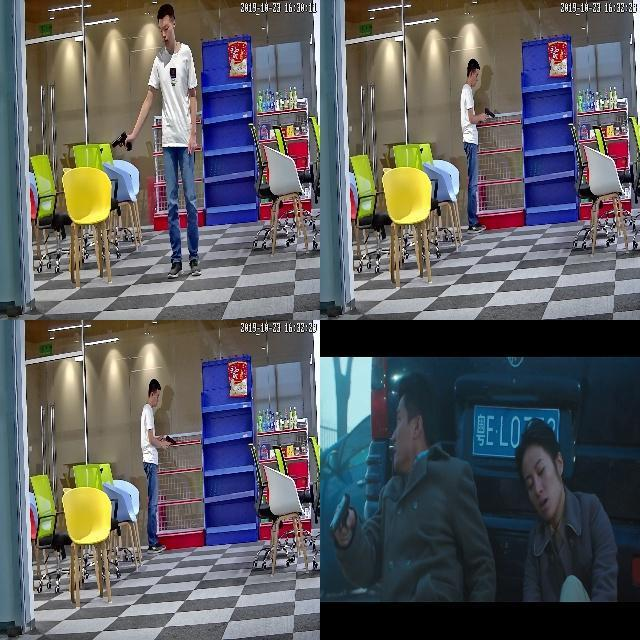gun-knife-thesis - v11 Yolov5 augmented: (326, 488, 352, 546), (107, 129, 136, 160), (163, 432, 177, 451), (480, 108, 496, 123)
